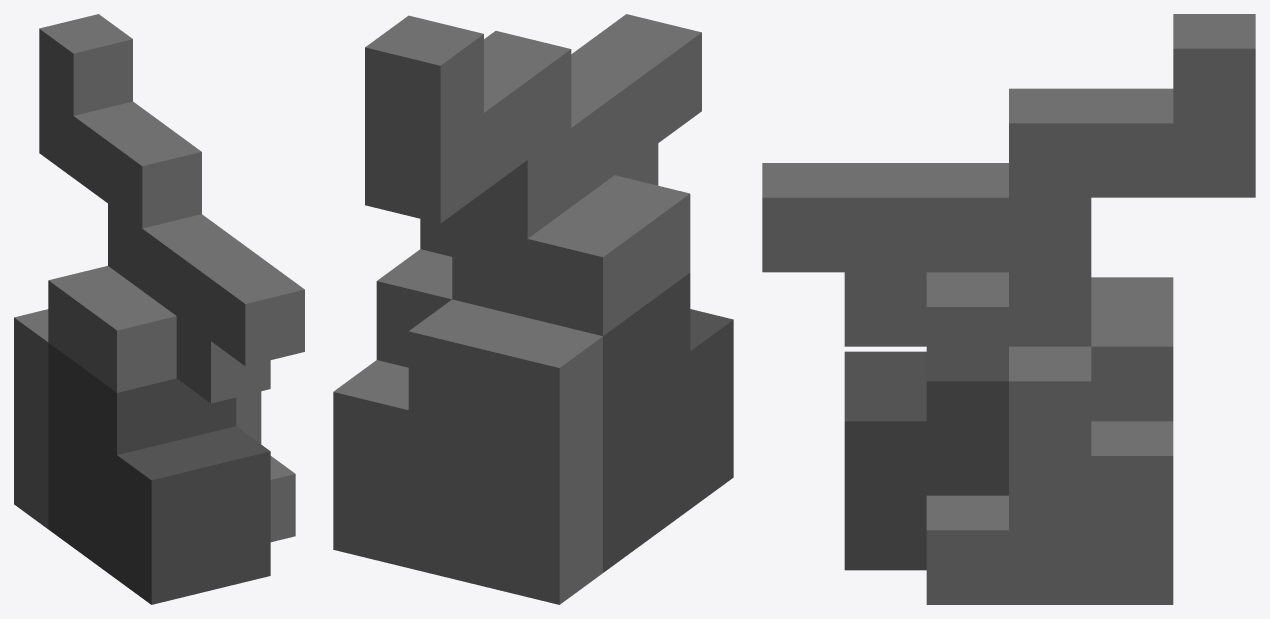
File: Golem Leg 1.obj
The picture shows the model from 3 angles, left to right: view 1: azimuth 30°, elevation 25°; view 2: azimuth 150°, elevation 25°; view 3: azimuth 270°, elevation 25°; orthographic projection. The views are drawn at different scales.
Size of the model in its own units: 3 by 7 by 6.
1 material, 1 textured.
